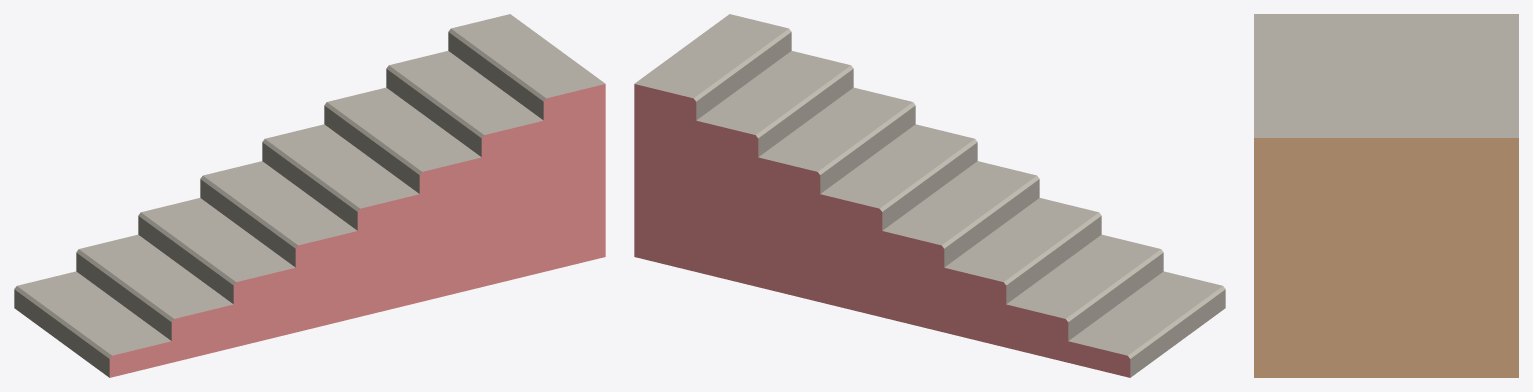
File: Tiered_Walkway_Steps_Straight_1x3.glb
3 renders of one model, left to right at view 1: azimuth 30°, elevation 25°; view 2: azimuth 150°, elevation 25°; view 3: azimuth 270°, elevation 25°, orthographic. The views are drawn at different scales.
Visible parts, largest first — view 1: Tiered_Walkway_Steps_Straight_1x3; view 2: Tiered_Walkway_Steps_Straight_1x3; view 3: Tiered_Walkway_Steps_Straight_1x3.
Part boxes in pixels (x1,y1,x2,y2): Tiered_Walkway_Steps_Straight_1x3: (14, 14, 605, 377); Tiered_Walkway_Steps_Straight_1x3: (634, 14, 1225, 377); Tiered_Walkway_Steps_Straight_1x3: (1254, 14, 1518, 377).
Bounding box in the file's own units: 300 × 100 × 100.
